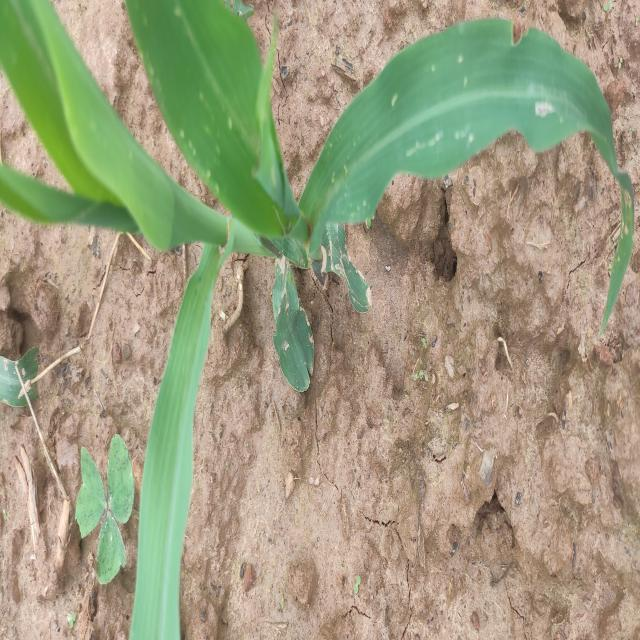maize: (0, 0, 640, 420), (146, 423, 200, 640)
weed: (81, 451, 129, 561)
